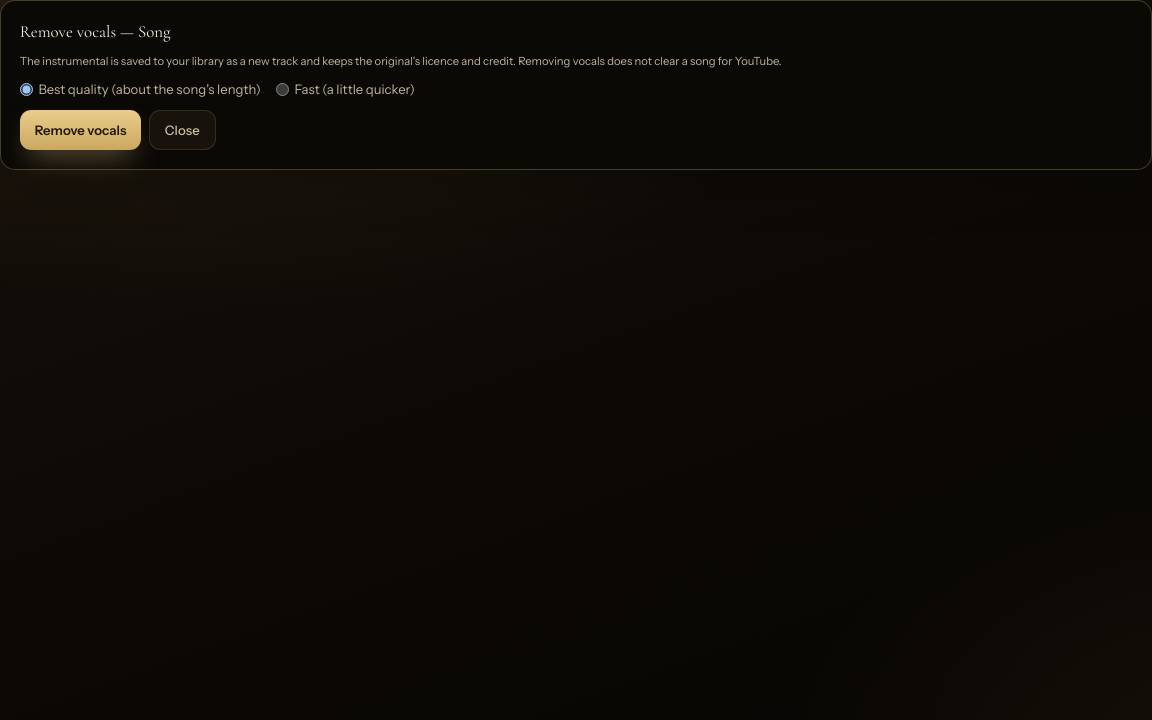
Scenario: InstrumentalDialog › shows the error when separation fails
Click the button "Remove vocals": {"x": 81, "y": 130} [20,110,141,150]
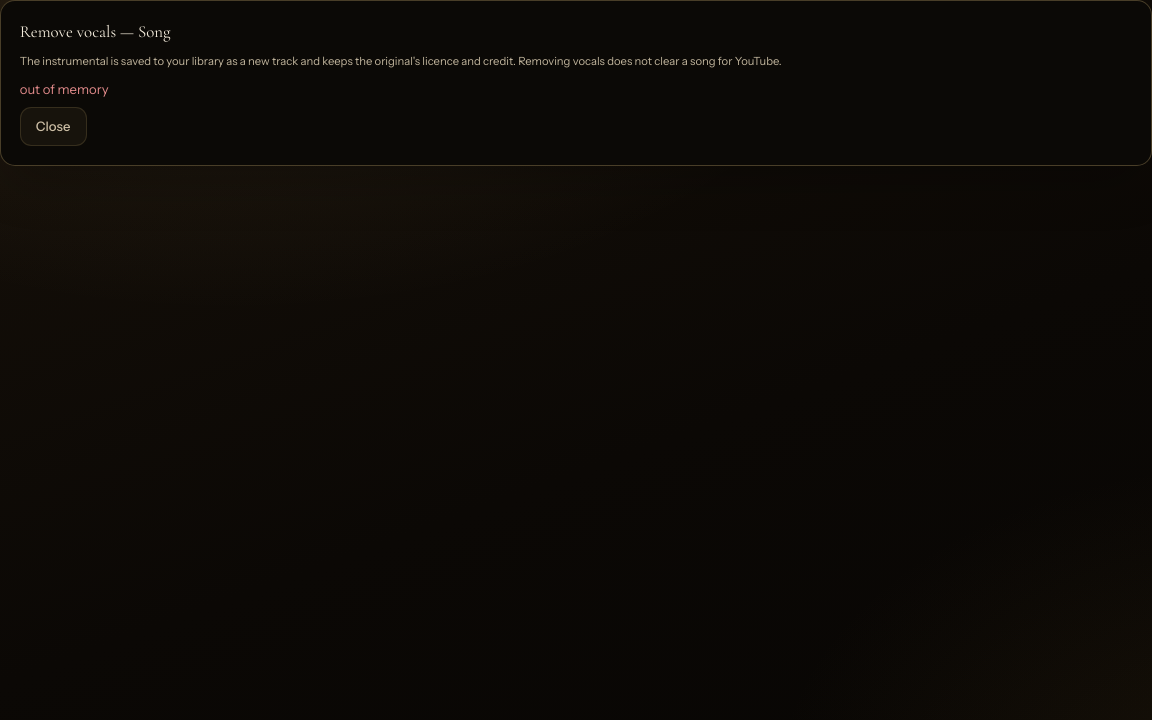
Expected: the text "out of memory" is shown, [20,82,109,98]
